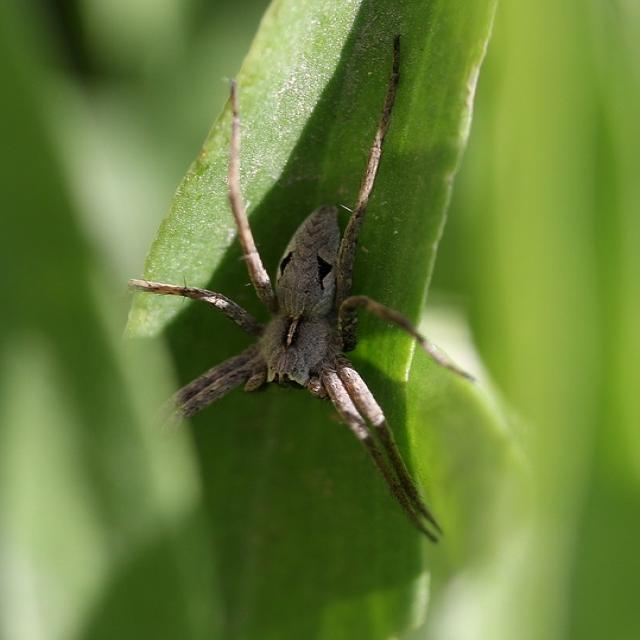spyder: (178, 38, 459, 538), (134, 281, 255, 332)
